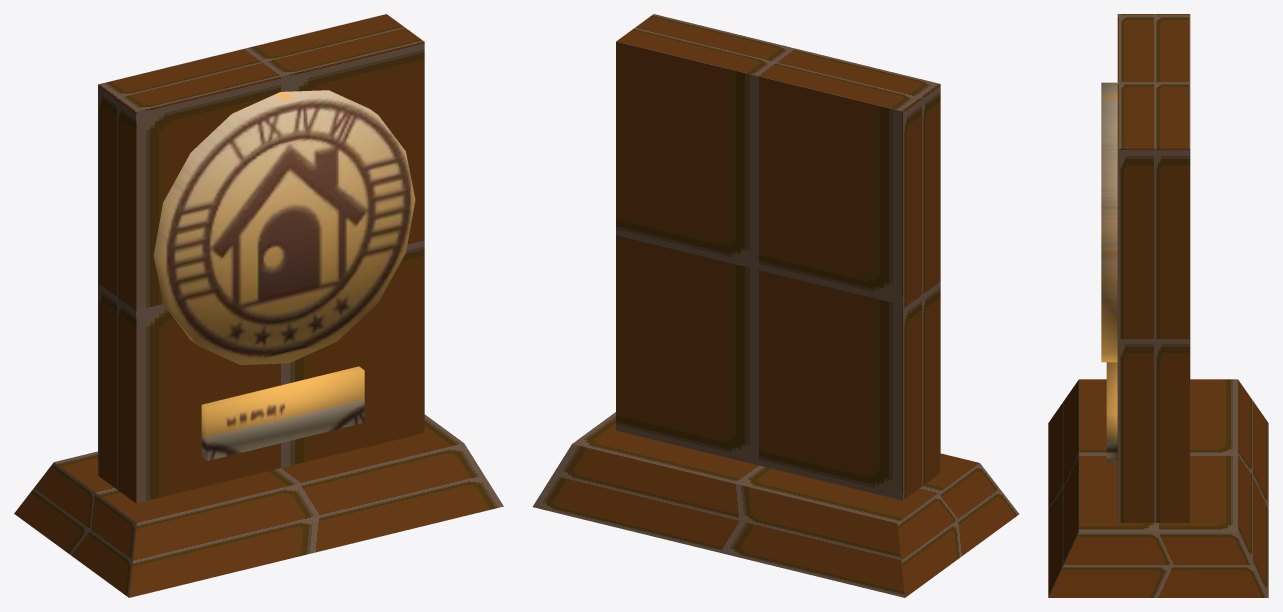
The model's file is int_hha_tate_A.dae.
The picture shows the model from 3 angles, left to right: view 1: azimuth 30°, elevation 25°; view 2: azimuth 150°, elevation 25°; view 3: azimuth 270°, elevation 25°; orthographic projection. The views are drawn at different scales.
Visible parts, largest first — view 1: int_hha_tate_A; view 2: int_hha_tate_A; view 3: int_hha_tate_A.
Boxes of the visible parts, x1,y1,x2,y2 form: int_hha_tate_A: (14,14,503,597); int_hha_tate_A: (532,14,1019,597); int_hha_tate_A: (1048,14,1268,597).
Bounding box in the file's own units: 16.89 × 19.33 × 8.98.
Materials: 2 (2 with a texture image).
